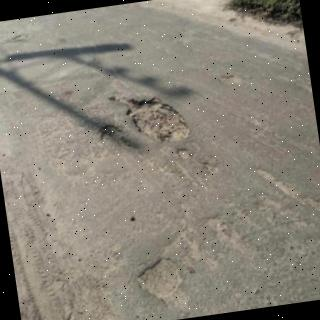pothole: (111, 98, 191, 144), (138, 259, 183, 307), (98, 125, 138, 148), (218, 75, 246, 87), (204, 162, 221, 174), (177, 149, 192, 159)
